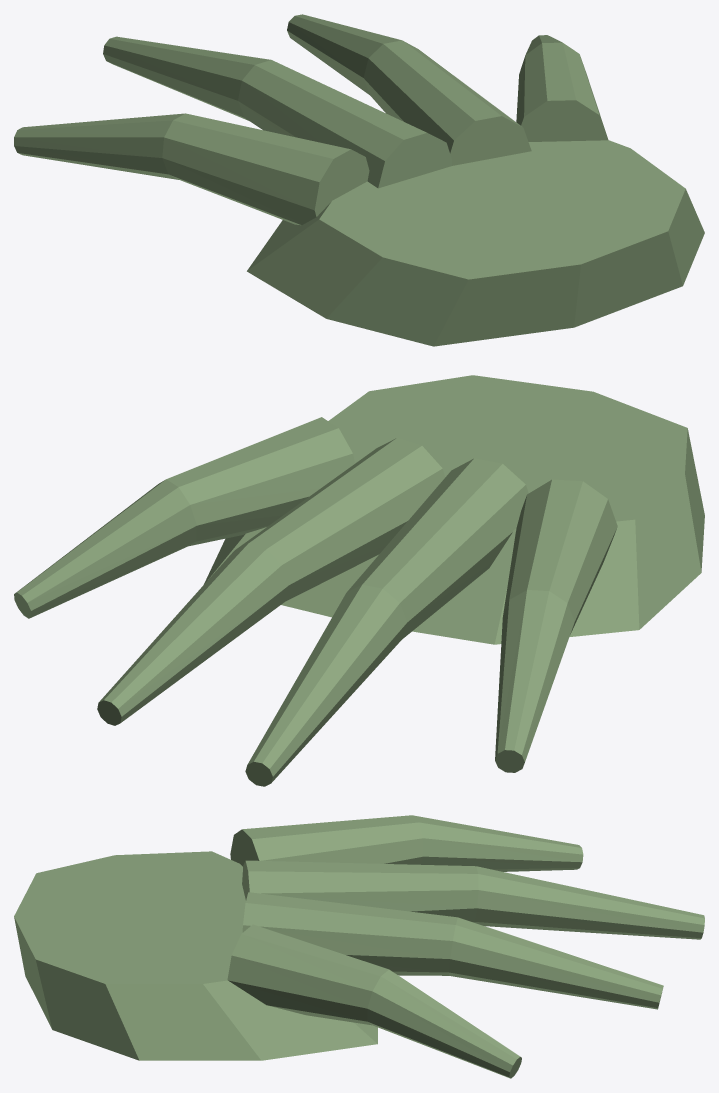
Rendered from frog_foot_fl_01.glb.
3 renders of one model, top to bottom at view 1: azimuth 30°, elevation 25°; view 2: azimuth 150°, elevation 25°; view 3: azimuth 270°, elevation 25°, orthographic. The views are drawn at different scales.
Parts seen in each view (by area): view 1: FrontLPalm, FrontLToe3, FrontLToe2, FrontLToe1, FrontLToe0; view 2: FrontLPalm, FrontLToe1, FrontLToe2, FrontLToe0, FrontLToe3; view 3: FrontLPalm, FrontLToe2, FrontLToe1, FrontLToe0, FrontLToe3.
Boxes of the visible parts, left/top/right/bottom form: FrontLPalm: left=247, top=140, right=704, bottom=346; FrontLToe3: left=14, top=113, right=369, bottom=225; FrontLToe2: left=103, top=36, right=451, bottom=188; FrontLToe1: left=287, top=14, right=531, bottom=165; FrontLToe0: left=516, top=35, right=608, bottom=141; FrontLPalm: left=203, top=375, right=704, bottom=644; FrontLToe1: left=97, top=438, right=445, bottom=725; FrontLToe2: left=245, top=458, right=528, bottom=786; FrontLToe0: left=14, top=417, right=354, bottom=618; FrontLToe3: left=495, top=479, right=617, bottom=772; FrontLPalm: left=14, top=851, right=377, bottom=1060; FrontLToe2: left=242, top=860, right=704, bottom=939; FrontLToe1: left=242, top=892, right=663, bottom=1009; FrontLToe0: left=227, top=924, right=521, bottom=1078; FrontLToe3: left=230, top=815, right=583, bottom=871.
Bounding box in the file's own units: 0.1254 × 0.0255 × 0.1666.
